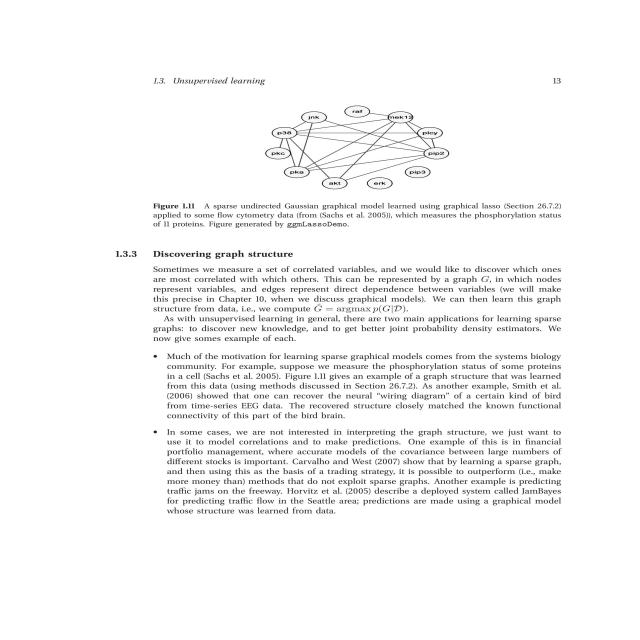diagram: (94, 93, 640, 251)
